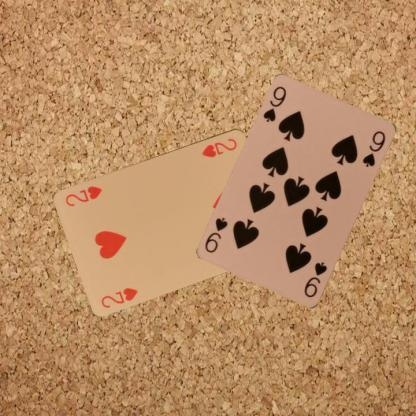2h: (99, 284, 139, 309), (199, 135, 238, 159)
9s: (260, 84, 288, 124), (301, 260, 328, 300)
